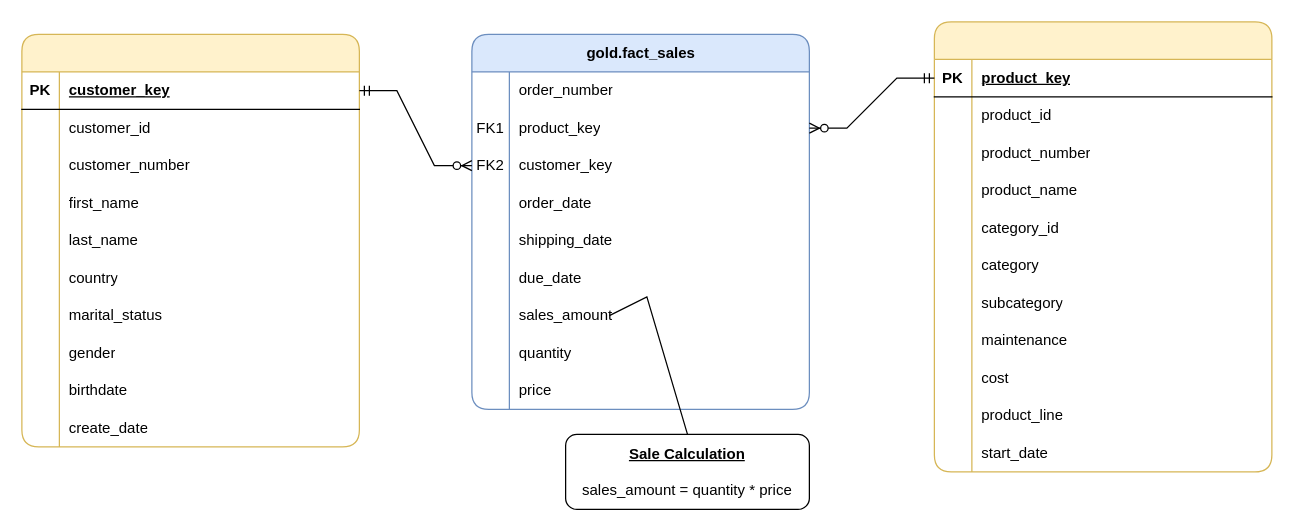
Some shapes in this 1294 by 531 pixel diagram are drawn without their labels. The shapes that lost their labels are listed below. From the top down, each one's box as (x1, y1, x2, y2) in pixels, then its label:
(21, 33, 359, 447): gold.dim_customers
(933, 21, 1272, 472): gold.dim_products
